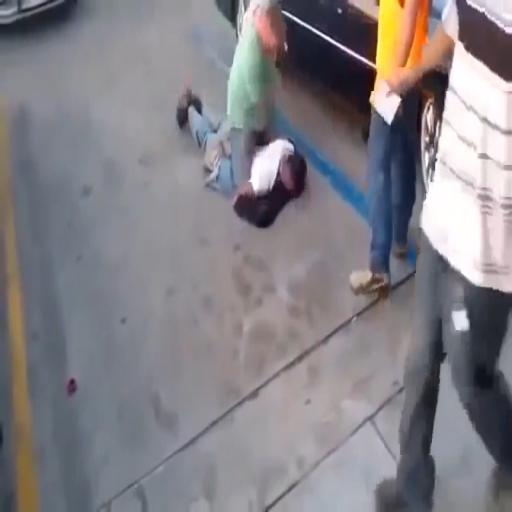violencia: (164, 0, 322, 236)
